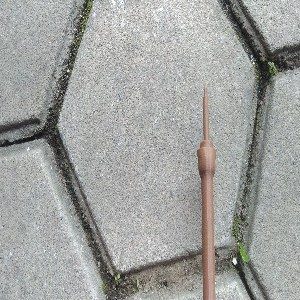solder: (197, 85, 217, 300)
